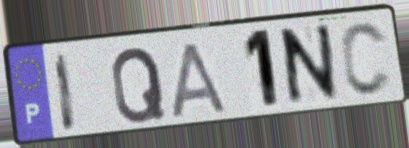1: (241, 26, 283, 114)
A: (169, 39, 230, 120)
C: (338, 19, 395, 100)
I: (53, 51, 80, 135)
N: (281, 20, 342, 112)
Q: (109, 44, 169, 127)
